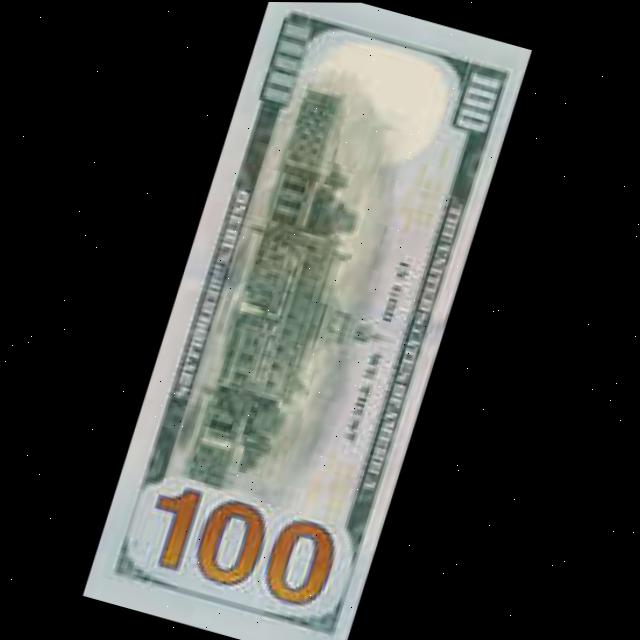banknote: (86, 1, 536, 640)
